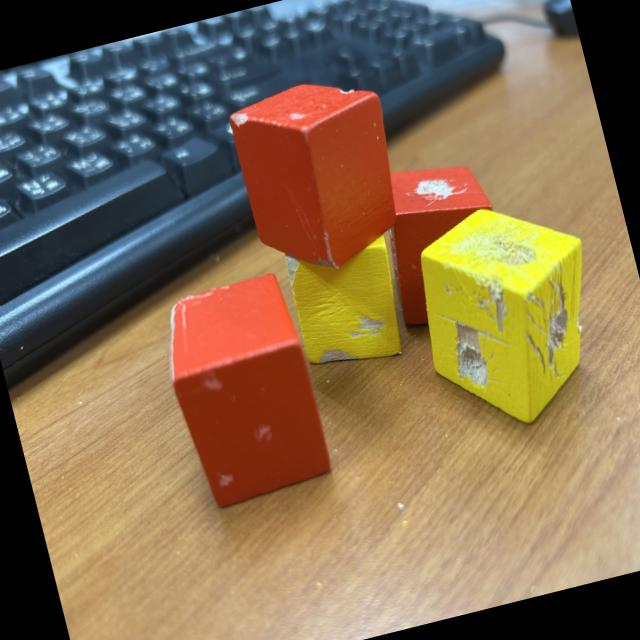broken: (399, 187, 621, 442), (152, 269, 336, 512), (224, 66, 416, 284), (366, 150, 516, 333), (276, 208, 414, 376)
